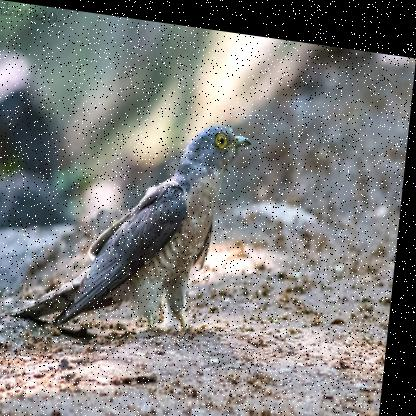Burung: (11, 97, 256, 345)
